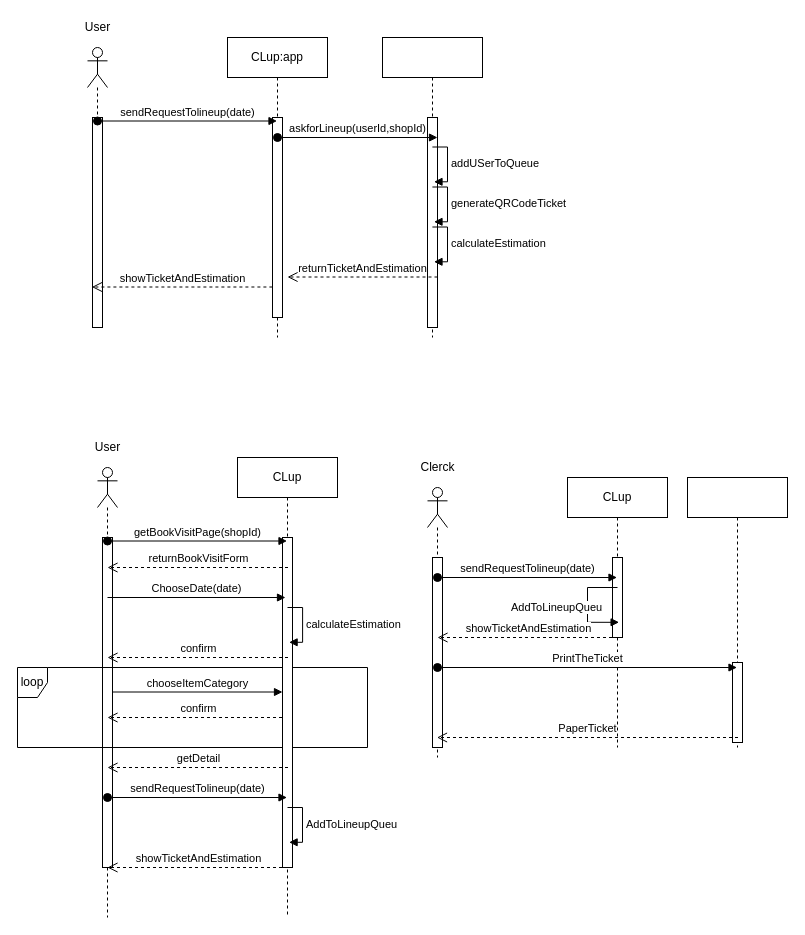
Image size: 805x935. Some labels were removed from this diagram. Here are the shapes that lost their labels. From the top down, the box of each, then its label:
(382, 36, 482, 338): CLup:server
(686, 476, 788, 748): Printer
